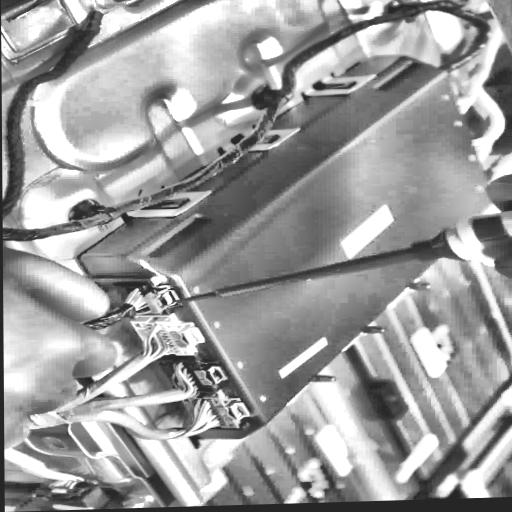bms_unit: (72, 54, 494, 440)
high_volt_cable: (3, 328, 220, 491)
low_volt_cable: (1, 0, 493, 250)
